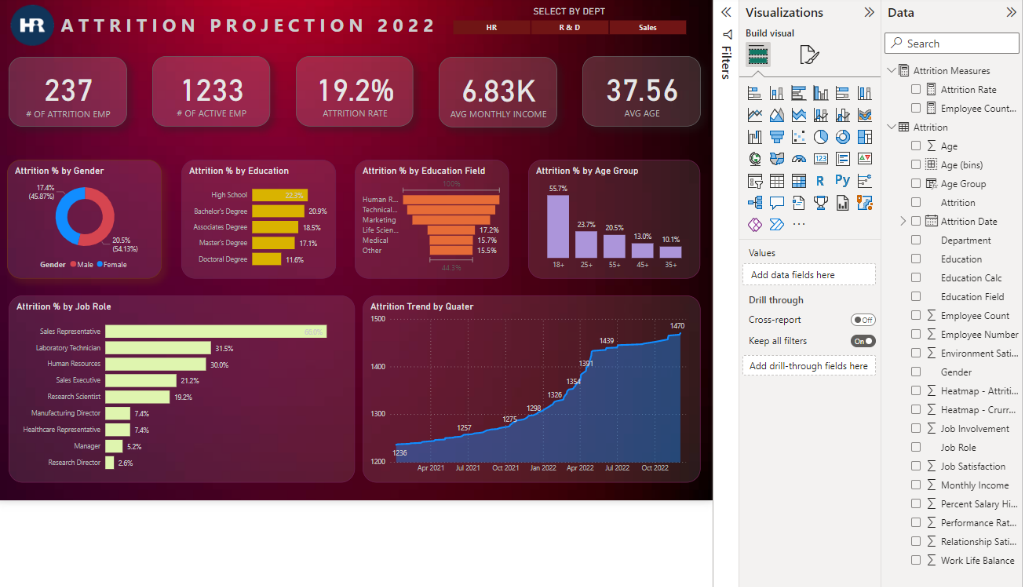

The dashboard page shown, as its layout file describes it:
{"tool":"powerbi","page":{"name":"Attrition","canvas":[1280,900],"ordinal":0},"visuals":[{"type":"slicer","title":"SELECT BY DEPT","fields":{"Values":["Attrition.Department"]},"box":[789.9,15.1,467.3,57.3],"z":0},{"type":"card","fields":{"Values":["Sum(Attrition.Employee Count)"]},"box":[19.5,107,211.6,125.2],"z":1000},{"type":"card","fields":{"Values":["Sum(Attrition.Employee Count)"]},"box":[276.5,105.6,211.2,125.9],"z":2000},{"type":"card","fields":{"Values":["Attrition.Attrition Rate"]},"box":[533.7,105.8,210.3,126.4],"z":3000},{"type":"card","fields":{"Values":["Avg(Attrition.Monthly Income)"]},"box":[789.8,107,211.6,126.4],"z":4000},{"type":"card","fields":{"Values":["Avg(Attrition.Age)"]},"box":[1046.8,105.8,211.6,126.4],"z":5000},{"type":"donutChart","title":"Attrition % by Gender","fields":{"Y":["Attrition.Attrition Rate"],"Category":["Attrition.Gender"]},"box":[17,290.3,277.2,212.8],"z":6000},{"type":"funnel","title":"Attrition % by Education Field","fields":{"Category":["Attrition.Education Field"],"Y":["Attrition.Attrition Rate"]},"box":[639.7,291,275.9,212.6],"z":7000},{"type":"clusteredBarChart","title":"Attrition % by Education","fields":{"Category":["Attrition.Education"],"Y":["Attrition.Attrition Rate"]},"box":[328.4,290.3,277.2,212.8],"z":8000},{"type":"clusteredColumnChart","title":"Attrition % by Age Group","fields":{"Y":["Attrition.Attrition Rate"],"Category":["Attrition.Age Group"]},"box":[949.7,291,307.5,212.6],"z":9000},{"type":"clusteredBarChart","title":"Attrition % by Job Role","fields":{"Category":["Attrition.Job Role"],"Y":["Attrition.Attrition Rate"]},"box":[19.6,533.7,619.6,334.7],"z":10000},{"type":"areaChart","title":"Attrition Trend by Quater","fields":{"Category":["Attrition.Attrition Date"],"Y":["Attrition.Employee Count running total in Attrition Date"]},"box":[652.8,533.7,604.5,334.7],"z":11000},{"type":"textbox","box":[107.5,16.2,686.4,70.7],"z":12000},{"type":"image","box":[18.8,6.2,88.4,88.4],"z":13000}]}

Visuals, with their boxes on the page's 1280x900 design canvas (x1, y1, x2, y2). These are canvas units, not pixel positions in the 1024x587 screenshot, which may show the page scaled, cropped or inside an application window:
"SELECT BY DEPT" slicer: bbox=[790, 15, 1257, 72]
card - Sum(Attrition.Employee Count): bbox=[20, 107, 231, 232]
card - Sum(Attrition.Employee Count): bbox=[276, 106, 488, 232]
card - Attrition.Attrition Rate: bbox=[534, 106, 744, 232]
card - Avg(Attrition.Monthly Income): bbox=[790, 107, 1001, 233]
card - Avg(Attrition.Age): bbox=[1047, 106, 1258, 232]
"Attrition % by Gender" donutChart: bbox=[17, 290, 294, 503]
"Attrition % by Education Field" funnel: bbox=[640, 291, 916, 504]
"Attrition % by Education" clusteredBarChart: bbox=[328, 290, 606, 503]
"Attrition % by Age Group" clusteredColumnChart: bbox=[950, 291, 1257, 504]
"Attrition % by Job Role" clusteredBarChart: bbox=[20, 534, 639, 868]
"Attrition Trend by Quater" areaChart: bbox=[653, 534, 1257, 868]
textbox: bbox=[108, 16, 794, 87]
image: bbox=[19, 6, 107, 95]
